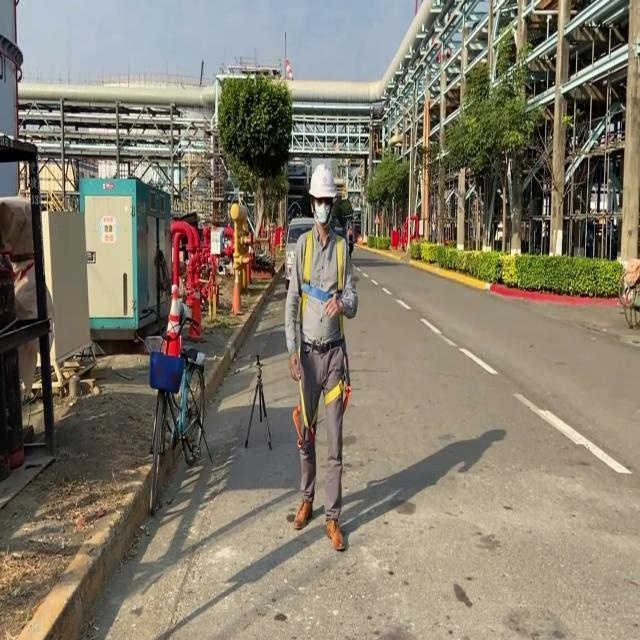Arnes_seguridad: (289, 227, 355, 413)
